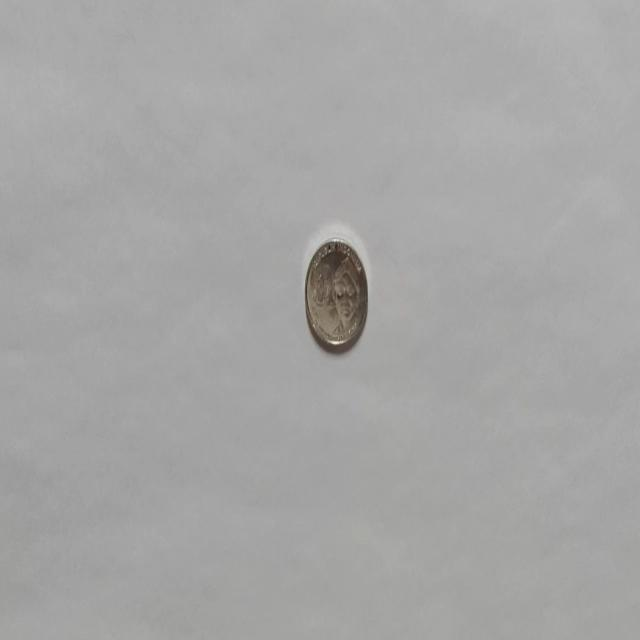dua ratus rupiah: (304, 235, 368, 353)
